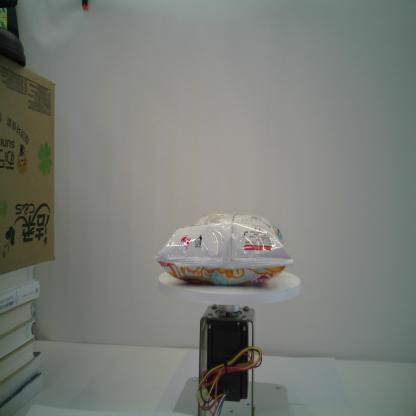Puffed Food: (152, 209, 295, 288)
